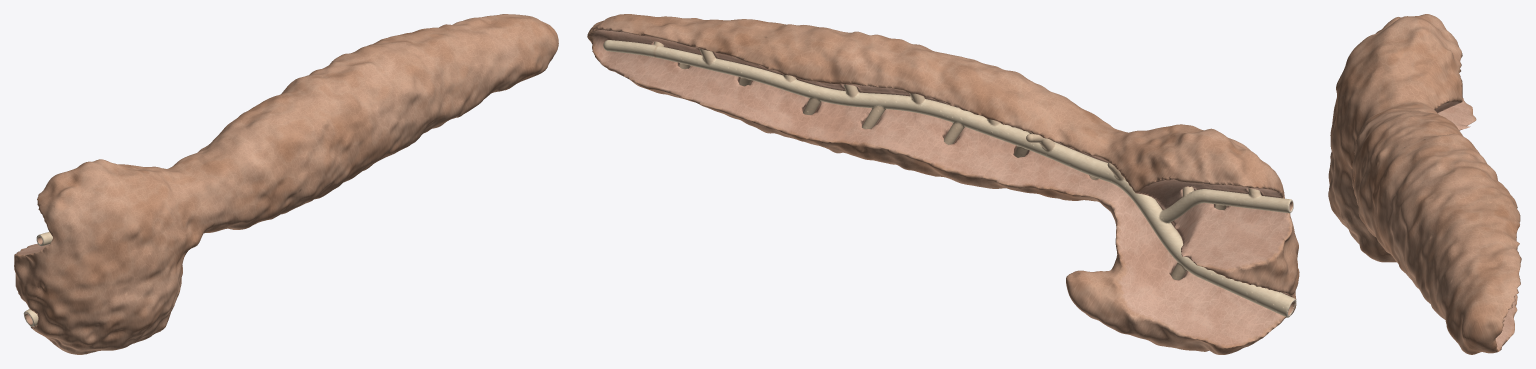
The model's file is posterior.glb.
The picture shows the model from 3 angles, left to right: view 1: azimuth 30°, elevation 25°; view 2: azimuth 150°, elevation 25°; view 3: azimuth 270°, elevation 25°; orthographic projection. The views are drawn at different scales.
Parts seen in each view (by area): view 1: PA_PosteriorWindow; view 2: PA_PosteriorWindow, PA_DuctNetwork; view 3: PA_PosteriorWindow.
Part boxes in pixels (bbox=[...]): PA_PosteriorWindow: bbox=[14, 14, 558, 354]; PA_PosteriorWindow: bbox=[587, 14, 1299, 354]; PA_DuctNetwork: bbox=[603, 40, 1296, 317]; PA_PosteriorWindow: bbox=[1328, 14, 1521, 354].
Size of the model in its own units: 0.1529 by 0.0541 by 0.0367.
6 materials, 6 textured.
